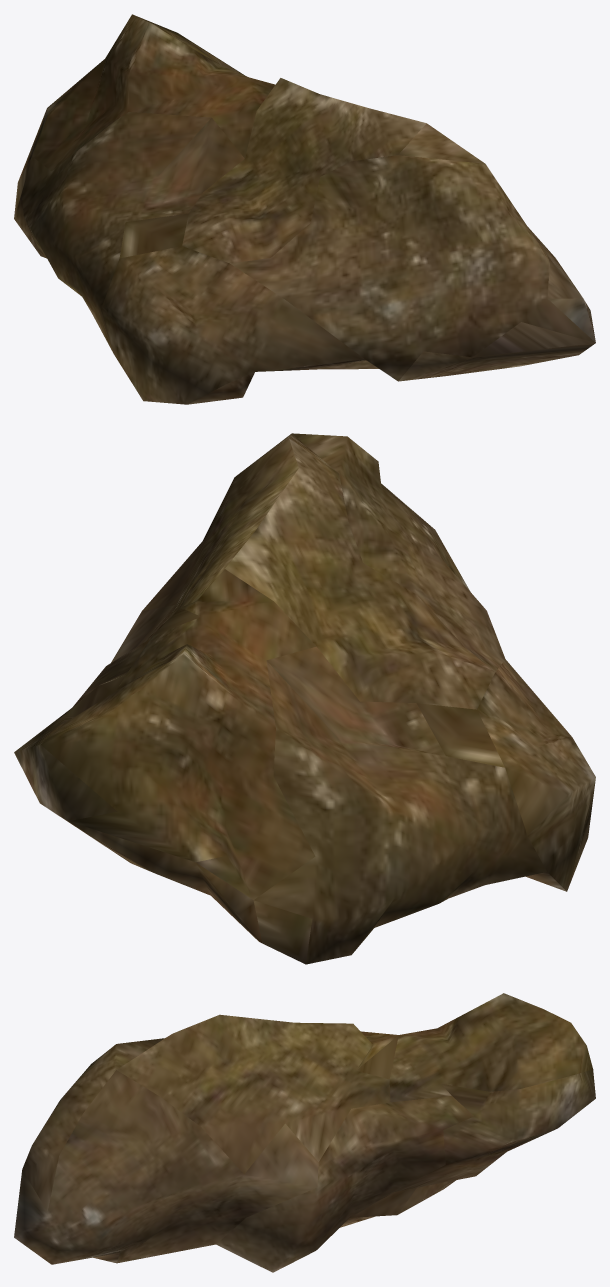
File: SM_Stone_A.fbx
3 renders of one model, top to bottom at view 1: azimuth 30°, elevation 25°; view 2: azimuth 150°, elevation 25°; view 3: azimuth 270°, elevation 25°, orthographic. The views are drawn at different scales.
Parts seen in each view (by area): view 1: SM_Stone_A; view 2: SM_Stone_A; view 3: SM_Stone_A.
Boxes of the visible parts, <box> form: SM_Stone_A: <box>14,14,595,404</box>; SM_Stone_A: <box>14,433,595,964</box>; SM_Stone_A: <box>14,993,595,1272</box>.
Size of the model in its own units: 0.1749 by 0.1154 by 0.26.
